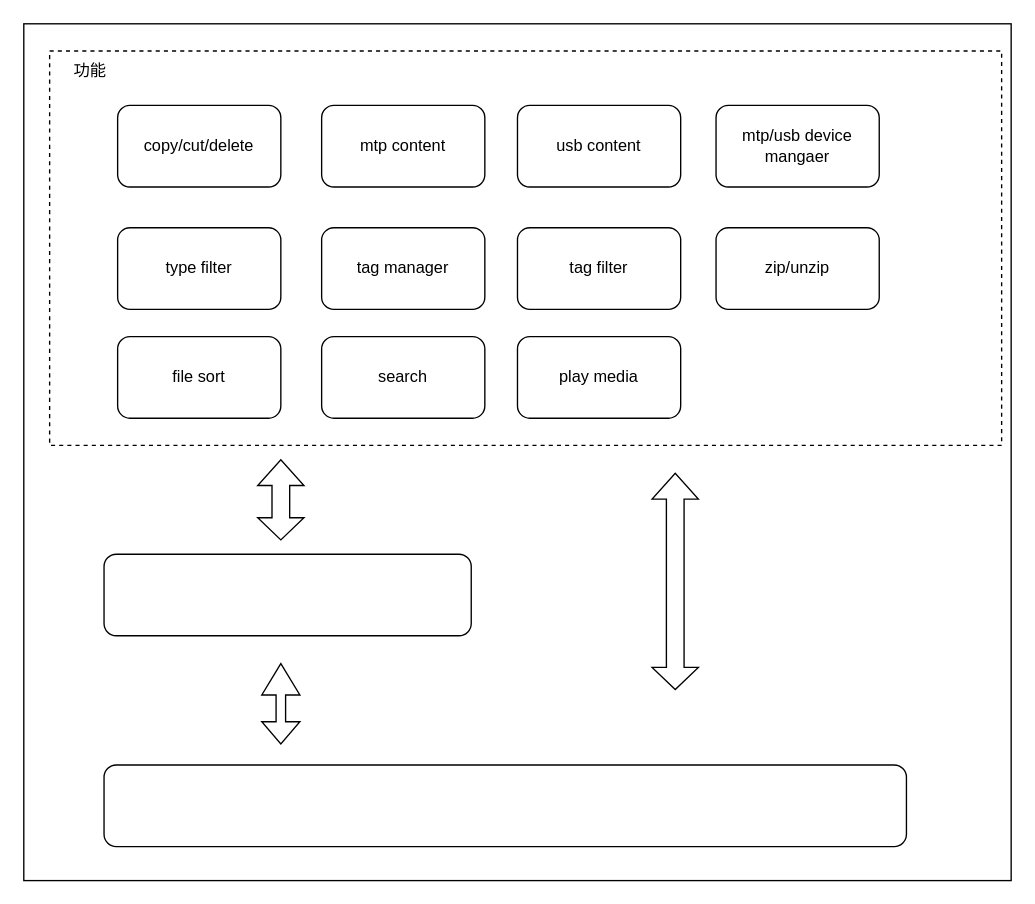
Image size: 1035x904. Some labels were removed from this diagram. The centre of each missing label's shape, as x and y in pixels:
"kio utils" goes at (x=504, y=805).
"Mauikit" goes at (x=287, y=594).
